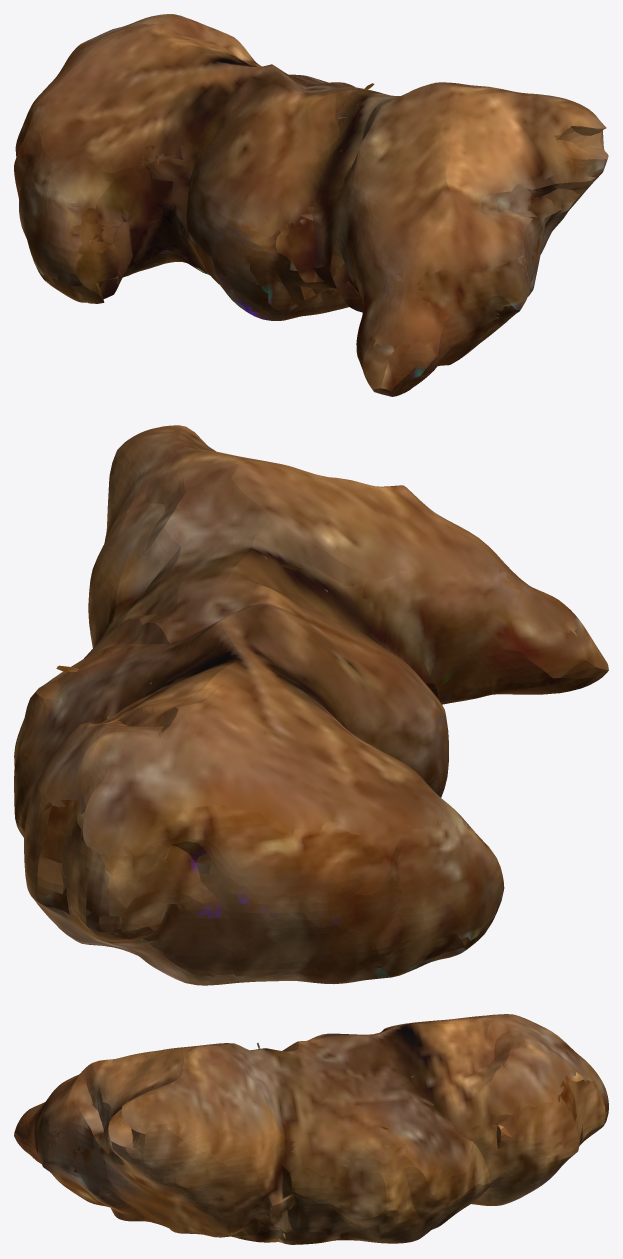
The model's file is model_kencur_20221011_163238551.obj.
3 views of the same model, one above another, from view 1: azimuth 30°, elevation 25°; view 2: azimuth 150°, elevation 25°; view 3: azimuth 270°, elevation 25° (orthographic). The views are drawn at different scales.
Bounding box in the file's own units: 37.73 × 18.91 × 54.
Materials: 1 (1 with a texture image).
